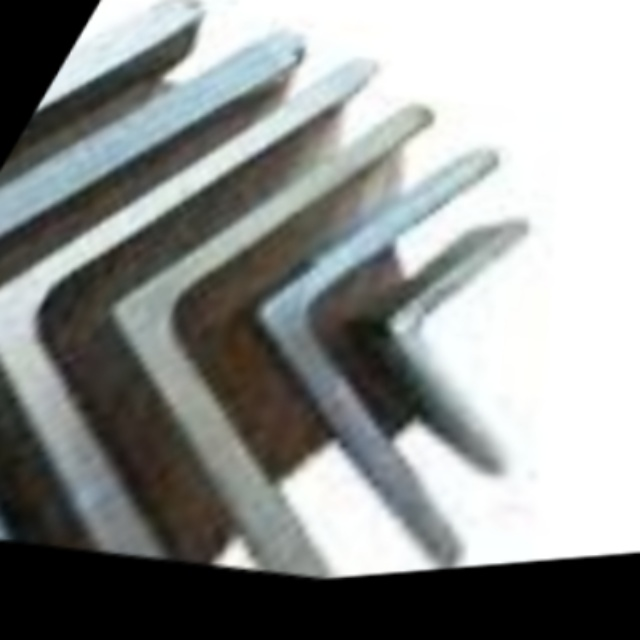Angle: (0, 37, 396, 608), (40, 86, 438, 603), (0, 11, 312, 585), (217, 127, 521, 564), (0, 3, 228, 556), (379, 212, 536, 476)
